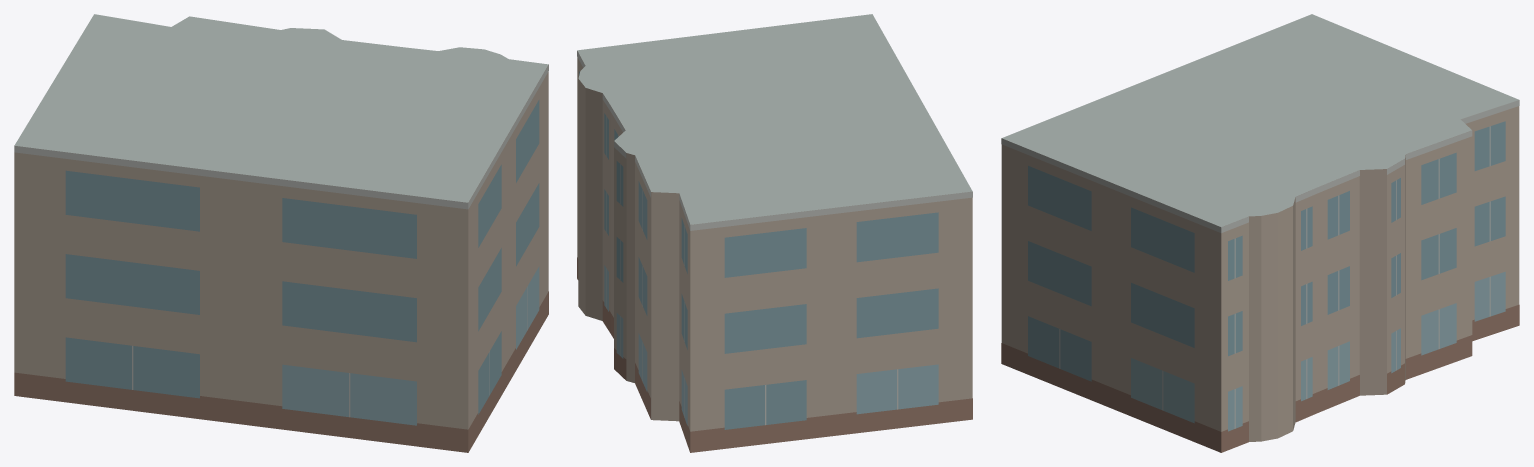
File: survey-upis-32973757.glb
3 renders of one model, left to right at view 1: azimuth 30°, elevation 25°; view 2: azimuth 150°, elevation 25°; view 3: azimuth 270°, elevation 25°, orthographic. The views are drawn at different scales.
Visible parts, largest first — view 1: survey-upis-32973757.tmp; view 2: survey-upis-32973757.tmp; view 3: survey-upis-32973757.tmp.
Boxes of the visible parts, x1,y1,x2,y2 form: survey-upis-32973757.tmp: [14, 14, 548, 452]; survey-upis-32973757.tmp: [577, 14, 972, 452]; survey-upis-32973757.tmp: [1001, 14, 1519, 452].
Size of the model in its own units: 18.55 by 9.15 by 19.03.
